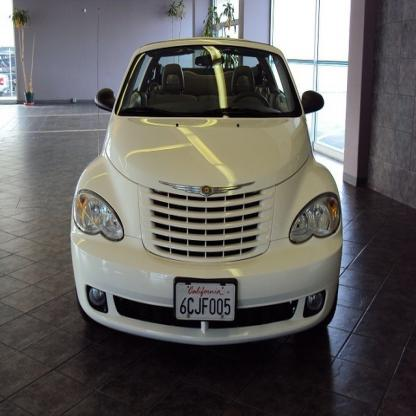Vehicle: (71, 39, 342, 348)
